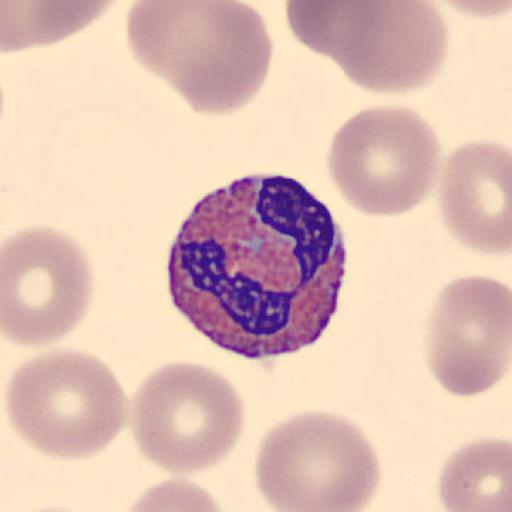RBC: (126, 0, 275, 117), (5, 346, 129, 461), (130, 359, 248, 477), (253, 407, 382, 512), (326, 102, 441, 218), (170, 0, 274, 116), (329, 0, 452, 96), (2, 224, 96, 348), (424, 272, 512, 397), (438, 137, 512, 257), (1, 0, 124, 52), (285, 0, 385, 58), (438, 436, 512, 512), (118, 476, 228, 512), (431, 0, 512, 20)
WBC: (164, 172, 348, 360)
